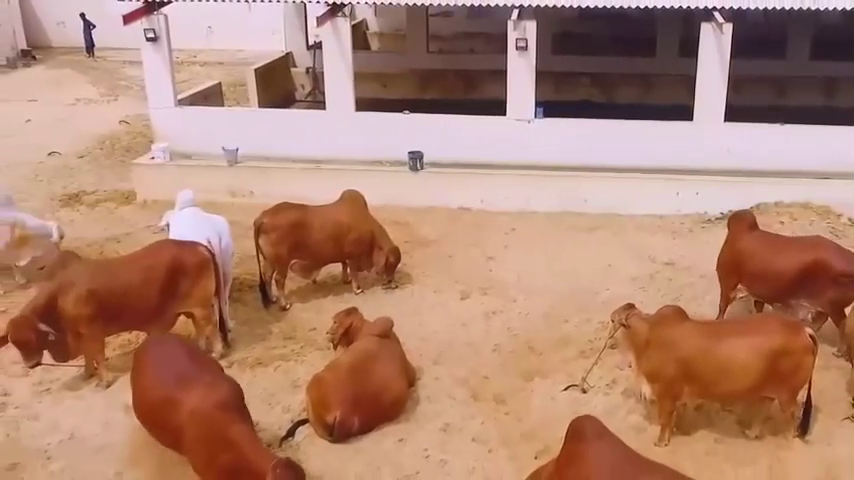bo: (110, 318, 335, 476), (603, 290, 826, 447), (16, 246, 228, 371), (703, 196, 851, 360), (246, 174, 406, 316), (294, 308, 428, 445), (517, 401, 698, 480), (146, 174, 234, 327), (1, 190, 76, 266)
